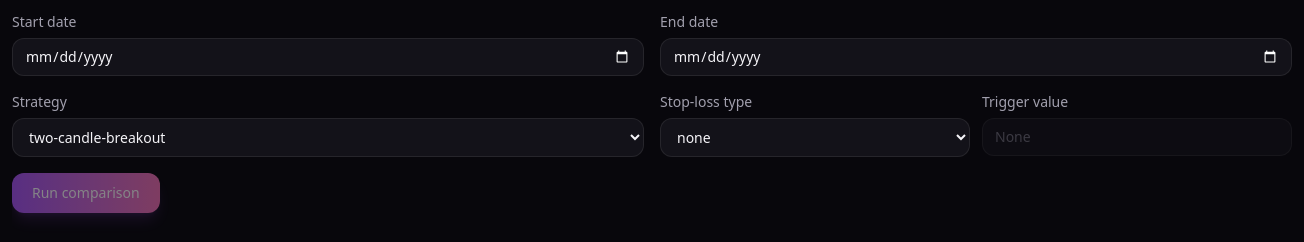
Scenario: StrategyComparison › disables submit until the required date fields are filled in
The width and height of the screenshot is (1304, 242).
Check: the dropdown labelled "Strategy" is enabled, box [12,118,644,157]
Check: the dropdown labelled "Stop-loss type" is enabled, box [660,118,970,157]
Type "2024-01-01" into the date field labelled "Start date". click: x=328, y=57
box: [12,38,644,76]
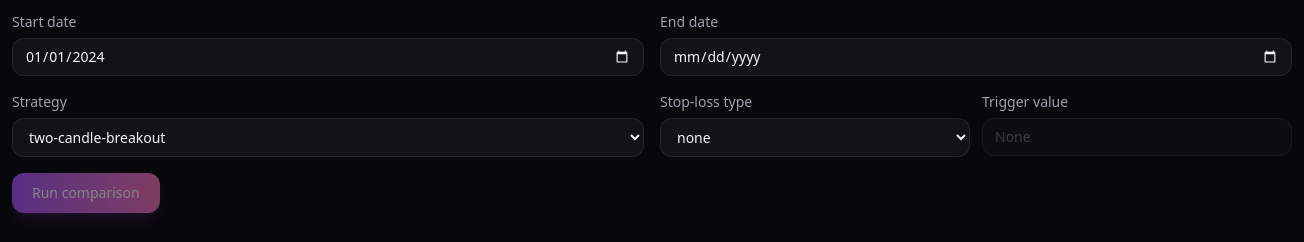
Check: the button "Run comparison" is disabled, box [12,173,160,213]
Type "2024-12-31" into the date field labelled "End date". click: x=976, y=57
box: [660,38,1292,76]
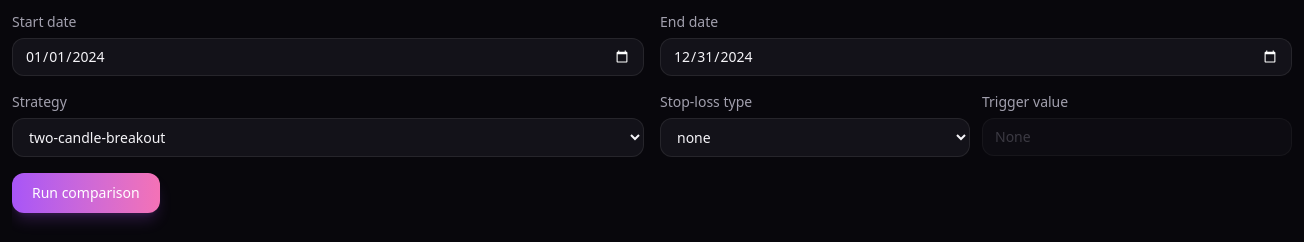
Check: the button "Run comparison" is enabled, box [12,173,160,213]
